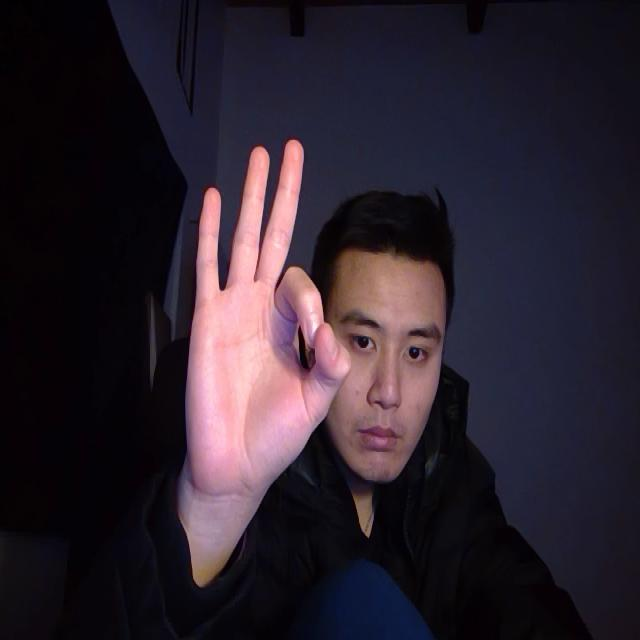F: (154, 114, 373, 577)
